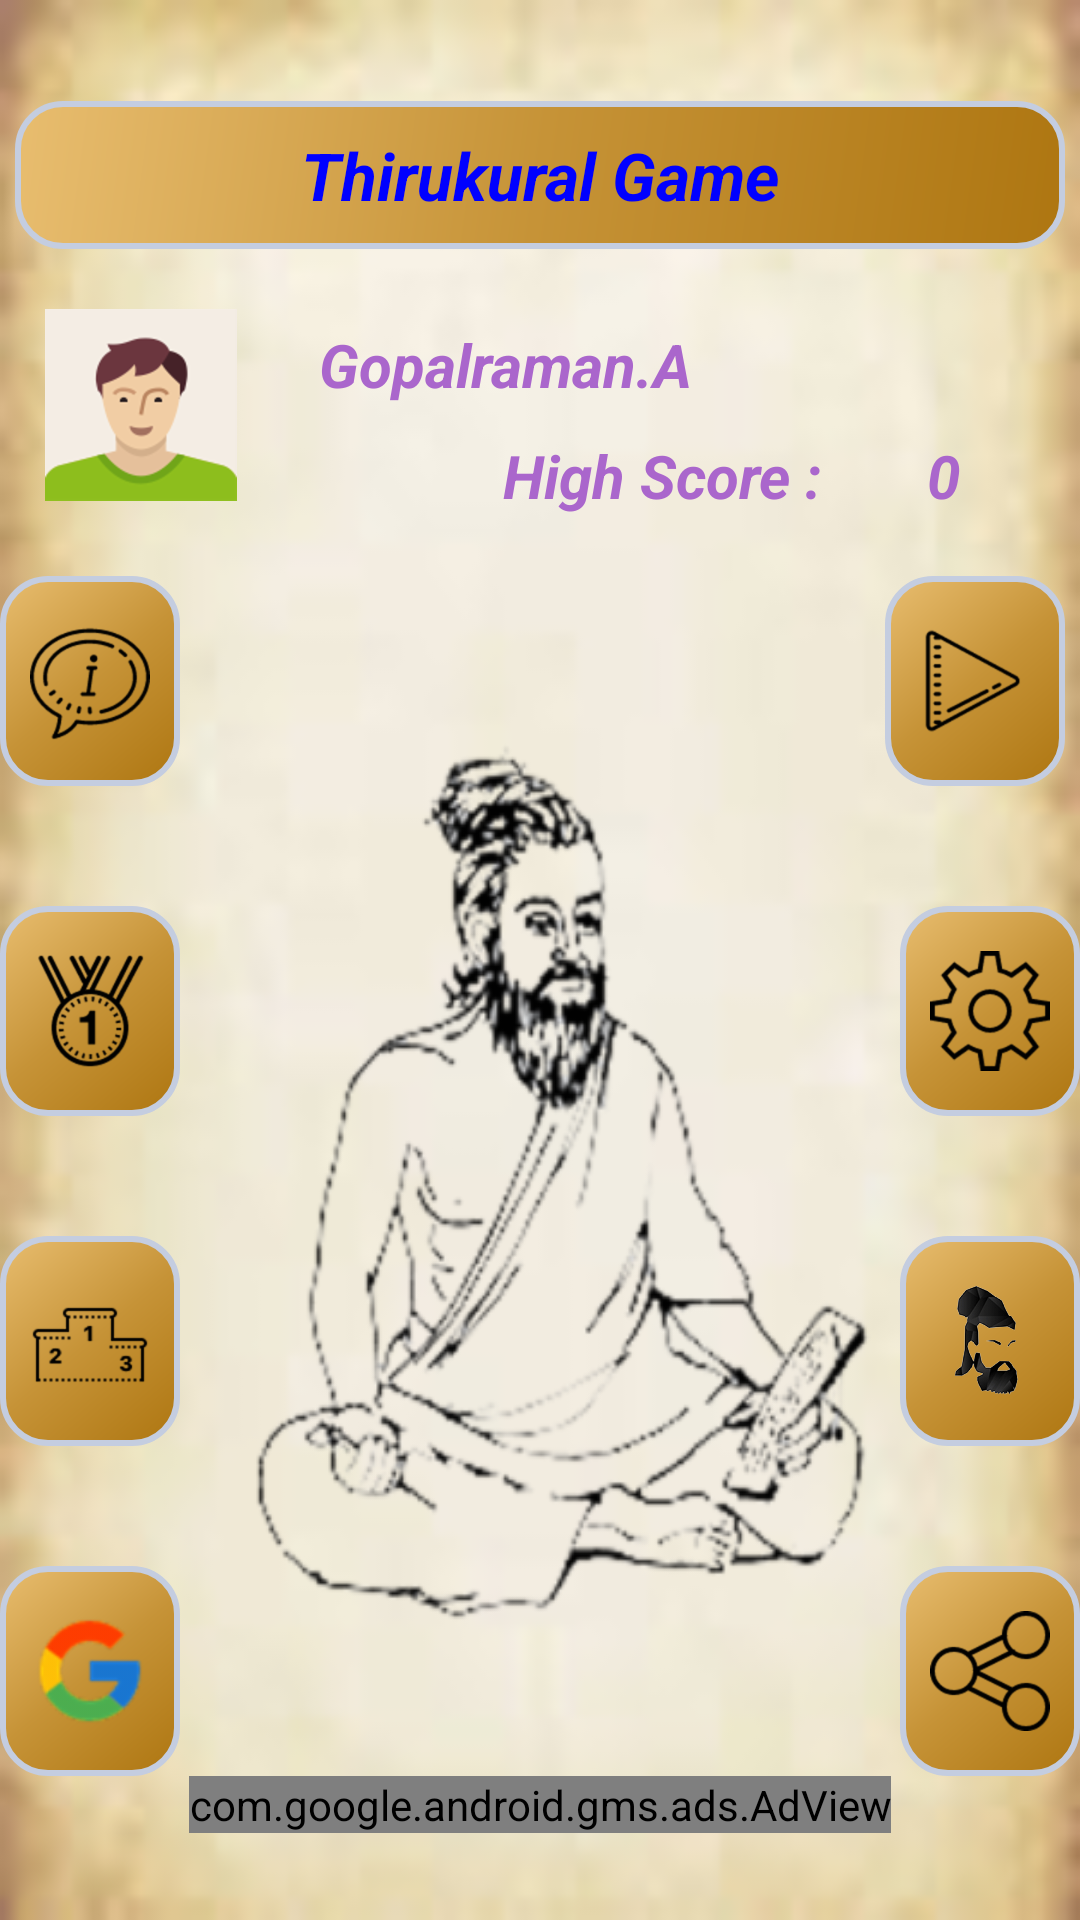

Point at icon controls on the screen. Image size 1080*1920, points as [x,y].
about: [90,681]
leaderboard: [90,1341]
medal first place: [90,1011]
play: [975,681]
settings: [990,1011]
share: [990,1671]
